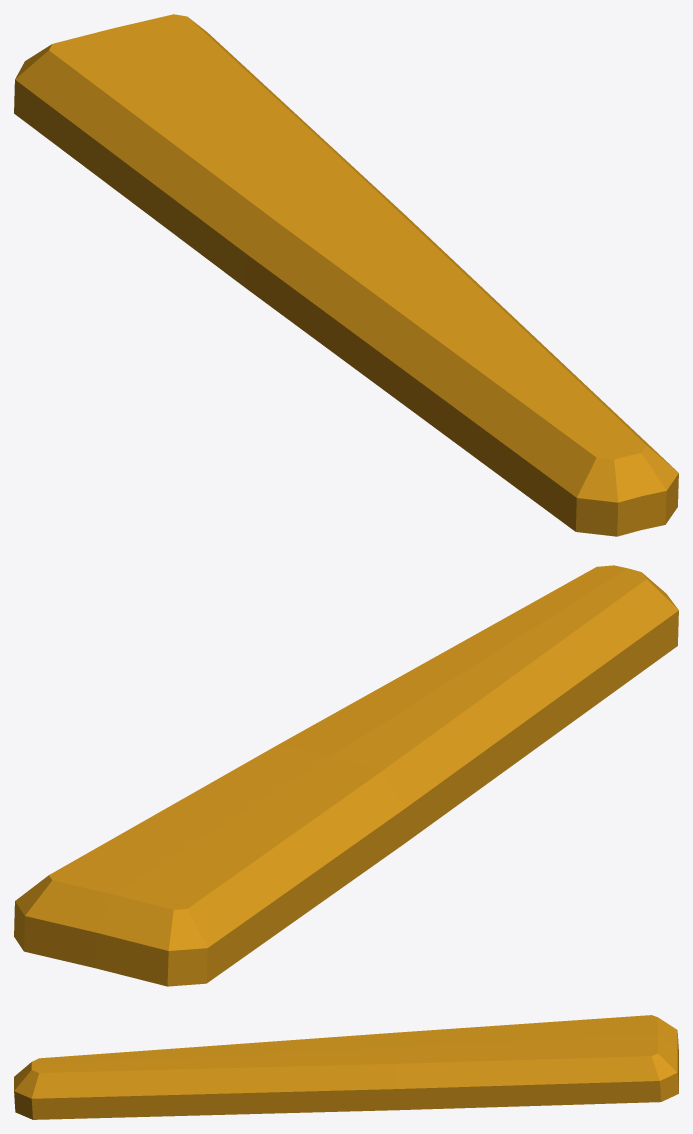
Rendered from Fighter_04_Detail_4_Yellow.fbx.
The picture shows the model from 3 angles, top to bottom: view 1: azimuth 30°, elevation 25°; view 2: azimuth 150°, elevation 25°; view 3: azimuth 270°, elevation 25°; orthographic projection. The views are drawn at different scales.
Parts seen in each view (by area): view 1: Fighter_04_Detail_4_Yellow; view 2: Fighter_04_Detail_4_Yellow; view 3: Fighter_04_Detail_4_Yellow.
Part boxes in pixels (bbox=[...]): Fighter_04_Detail_4_Yellow: bbox=[14, 14, 678, 536]; Fighter_04_Detail_4_Yellow: bbox=[14, 565, 678, 986]; Fighter_04_Detail_4_Yellow: bbox=[14, 1015, 678, 1119].
Size of the model in its own units: 58.91 by 33.79 by 289.
1 material, 1 textured.
